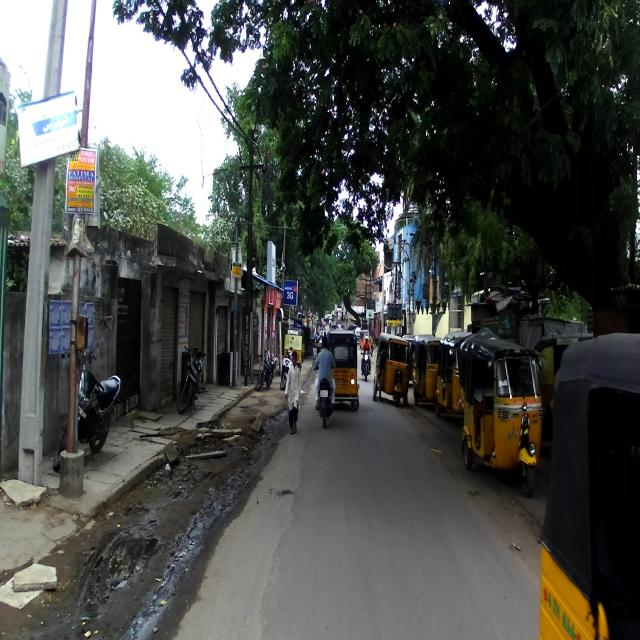autorickshaw: (536, 331, 639, 638), (462, 337, 542, 497), (372, 328, 414, 409)
motorcycle_Hero: (51, 352, 121, 471), (312, 354, 339, 432), (176, 344, 205, 414)
motorcycle_HeroHonda: (255, 344, 279, 396)
motorcycle_Honda: (359, 344, 374, 389)
